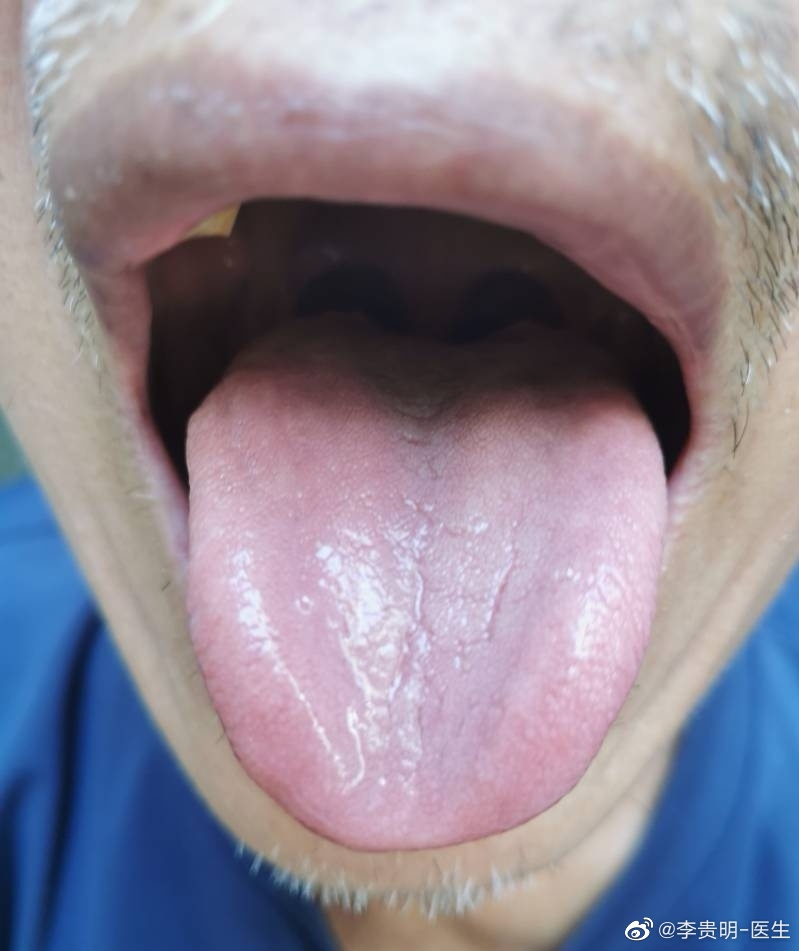huataishe: (286, 534, 352, 626)
liewenshe: (386, 498, 521, 660)
